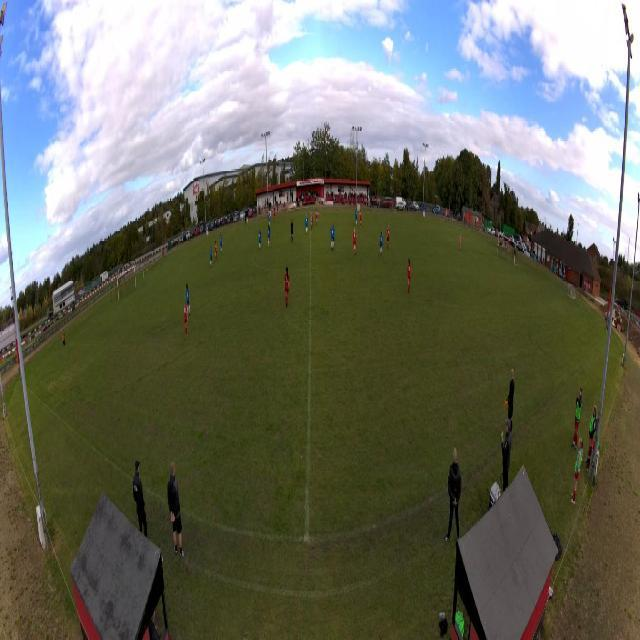player: (283, 266, 289, 311), (183, 299, 188, 340), (185, 282, 190, 318), (330, 224, 335, 253), (408, 259, 412, 295), (352, 228, 357, 256), (379, 228, 384, 255), (290, 219, 294, 243), (267, 225, 271, 247), (209, 246, 213, 267), (258, 230, 262, 251), (305, 214, 309, 235), (310, 211, 314, 230), (355, 207, 359, 226), (359, 209, 363, 228), (142, 269, 146, 288), (215, 240, 218, 264), (387, 225, 390, 249), (220, 234, 223, 255), (268, 213, 272, 228), (458, 233, 461, 251), (315, 210, 318, 226), (274, 207, 276, 223)
